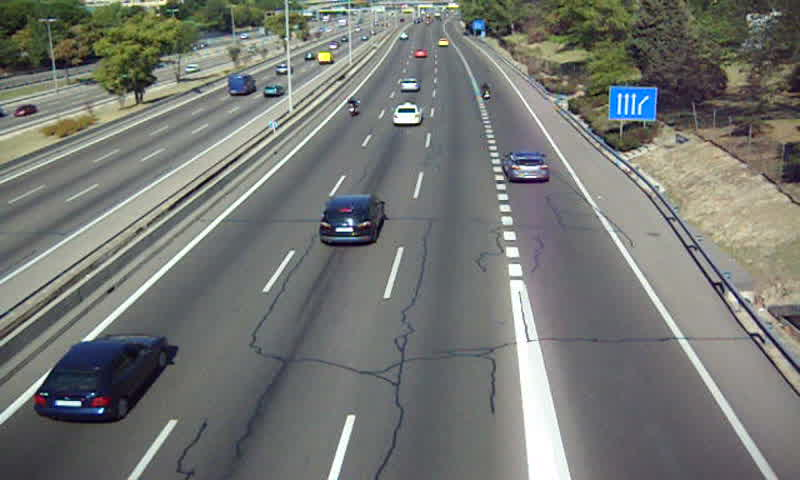car: (33, 334, 166, 419), (319, 195, 386, 245), (502, 151, 549, 184), (392, 103, 421, 125), (400, 77, 420, 92), (411, 49, 429, 60)
motorcycle: (346, 96, 362, 119), (480, 81, 491, 100)
